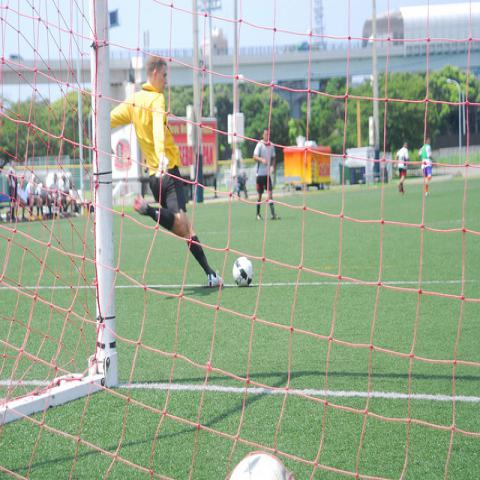car: (298, 42, 310, 50)
